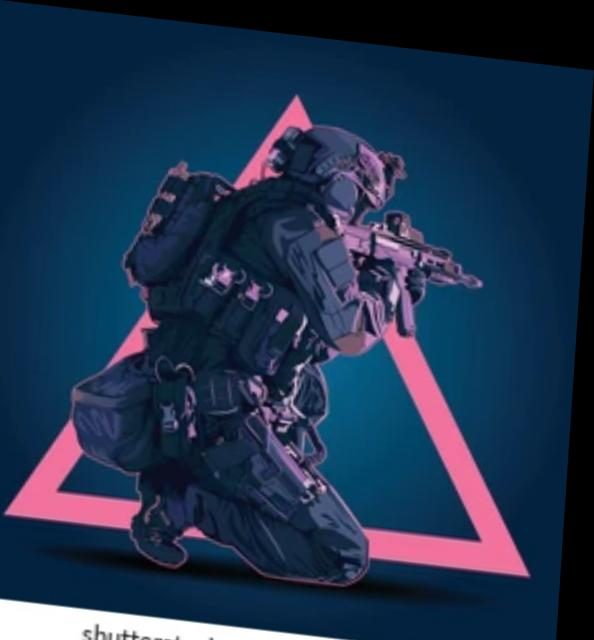other: (116, 94, 409, 584)
